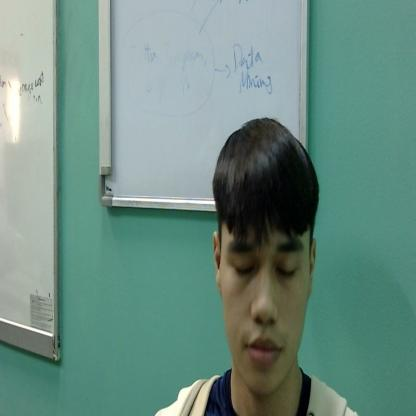Closed-Eyes: (218, 228, 309, 285)
